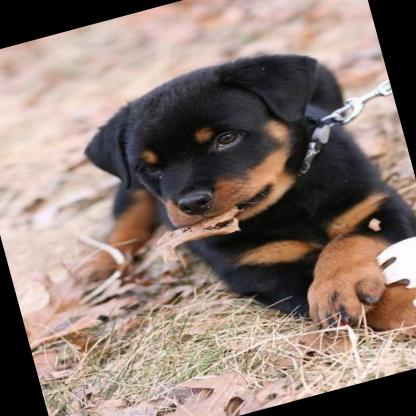Rottweiler: (25, 23, 416, 416)
